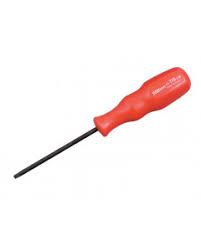screwdriver: (12, 65, 192, 178)
